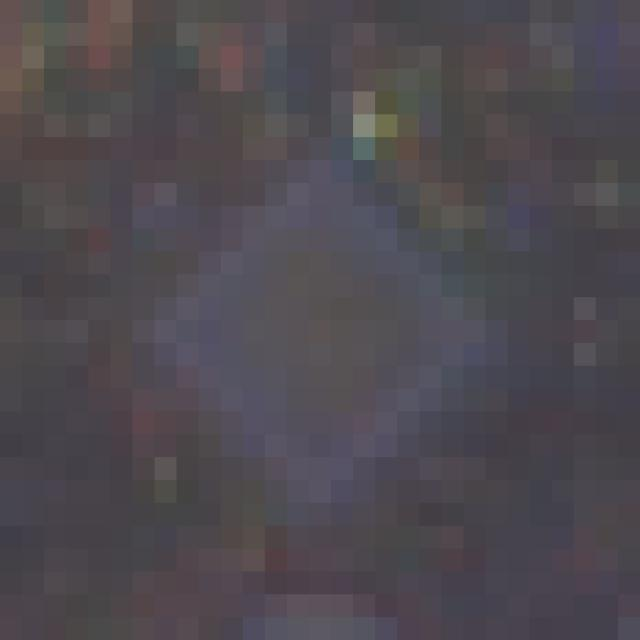Main Road: (134, 115, 531, 527)
